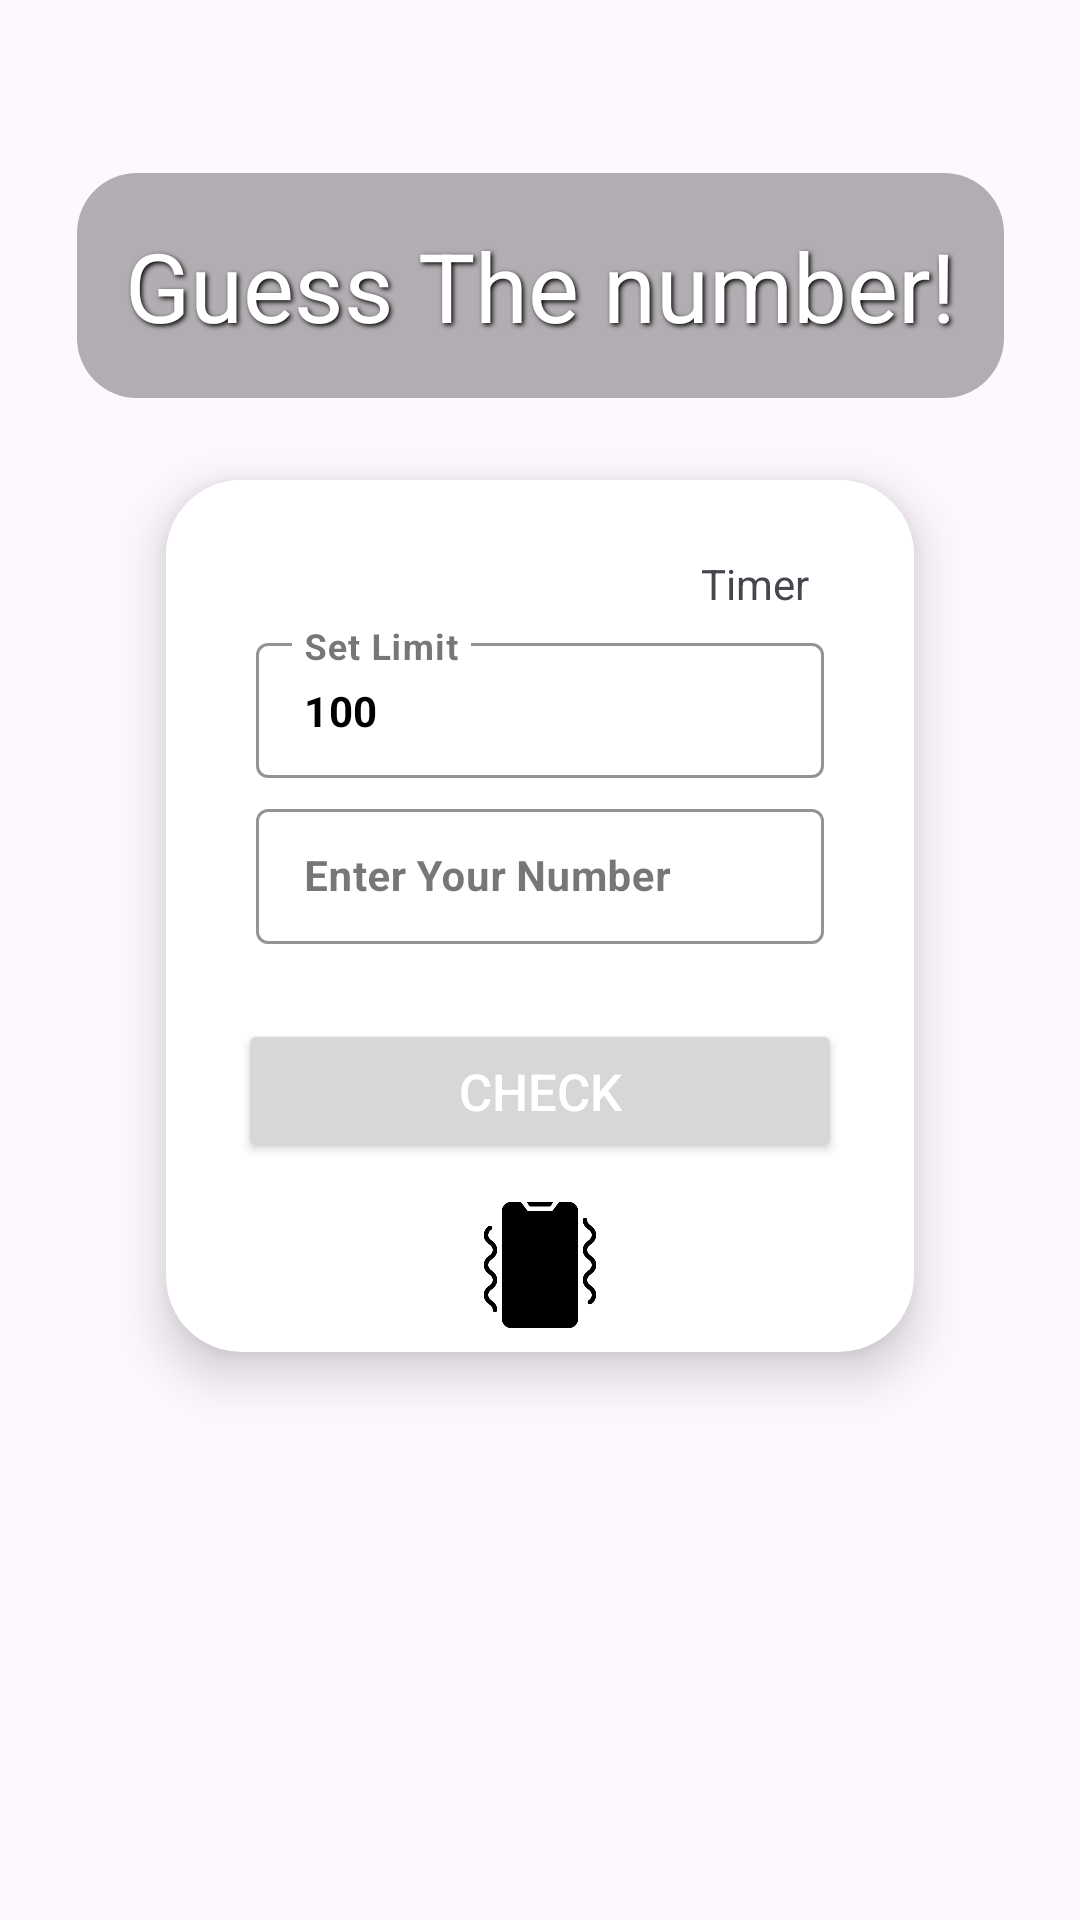

Screen size 1080w x 1920h. Icon name, then its center in pixels as (x,y):
vibrate: (540,1265)
